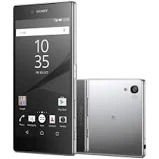sony: (10, 1, 79, 155)
